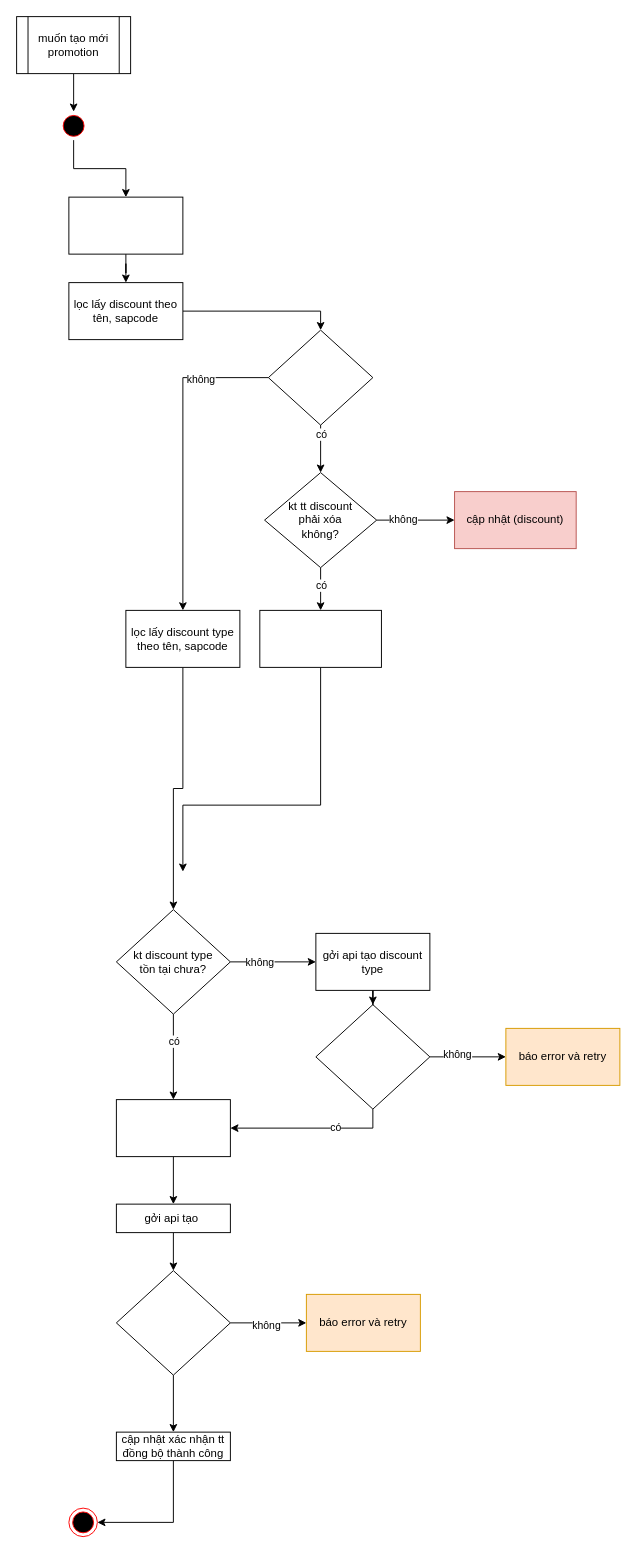
Some shapes in this 637 by 1553 pixel diagram are drawn without their labels. Each missing label, with the centre of its shape:
kích hoạt sync promotion: (x=125, y=225)
kt discount tồn tại chưa?: (x=320, y=377)
kt kết quả api tạo discount thành công?: (x=172, y=1322)
kt kết quả api tạo discount type thành công?: (x=372, y=1056)
lấy thông tin discount type: (x=172, y=1128)
tạo mới (discount): (x=320, y=638)
